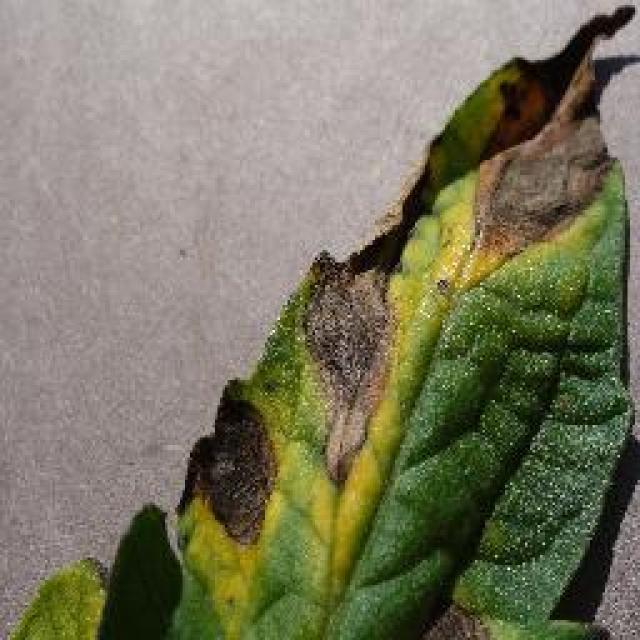Tomato_Early_Blight: (176, 55, 598, 560)
